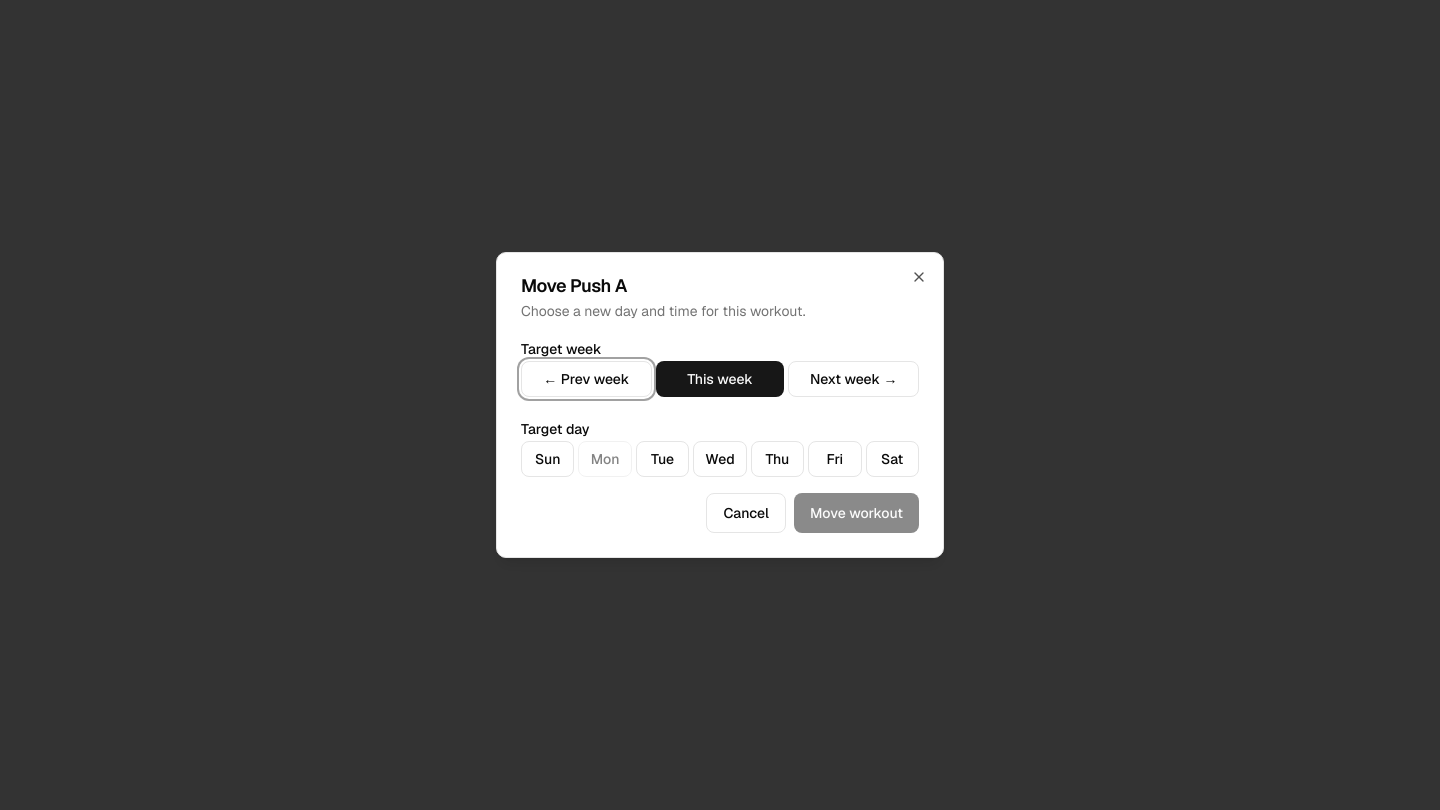
Test: MoveWorkoutModal (time-first) › overlap warning (AC8) › shows warning when target time overlaps existing workout
This screenshot has width=1440, height=810.
Click the button "Tue" at (662, 459), box [636, 441, 689, 477]
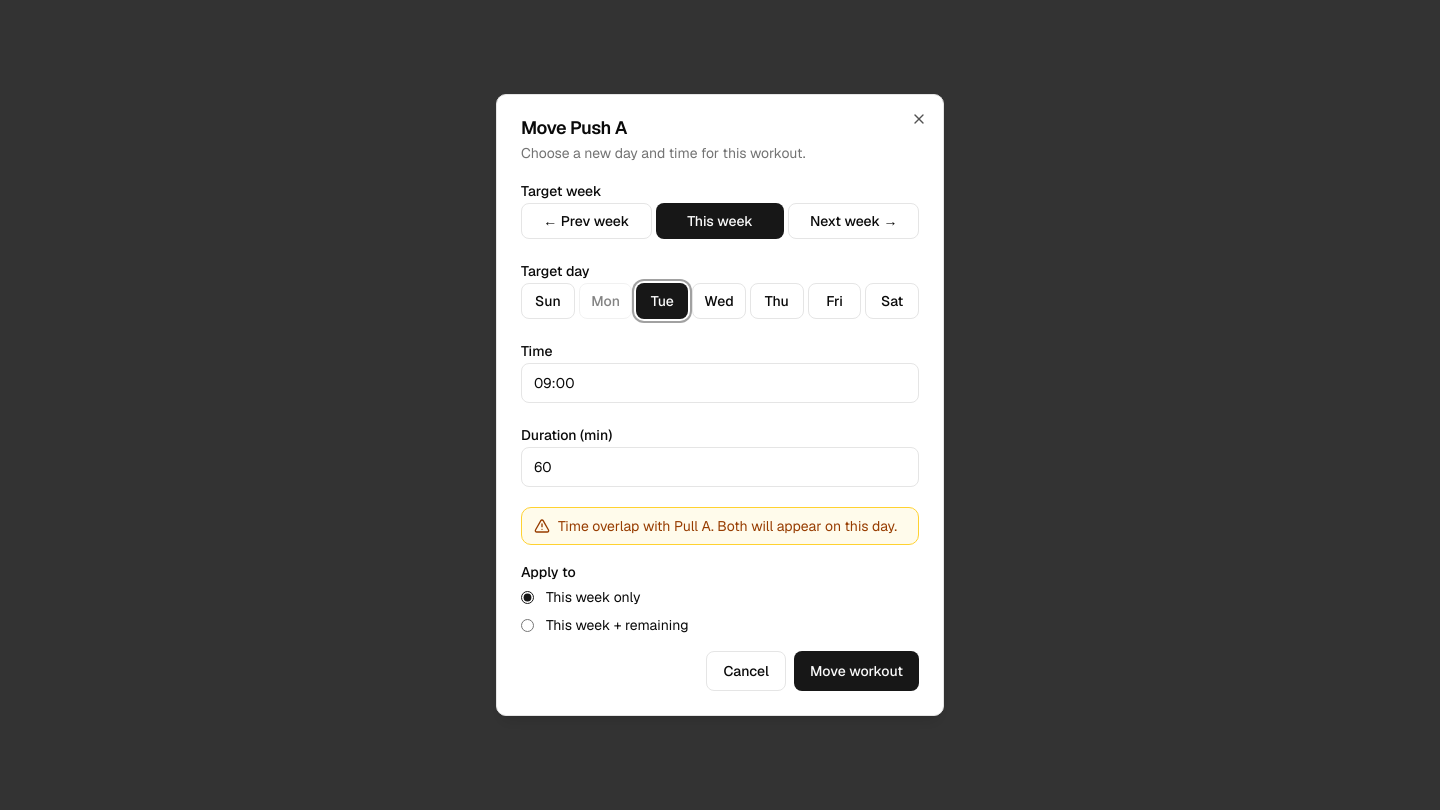
Now the text "Time overlap with Pull A. Both will appear on this day." is shown, box [521, 507, 919, 545]
